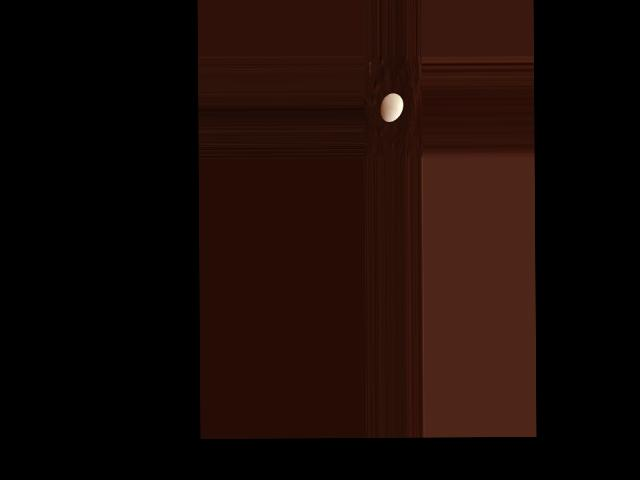egg: (380, 93, 403, 122)
